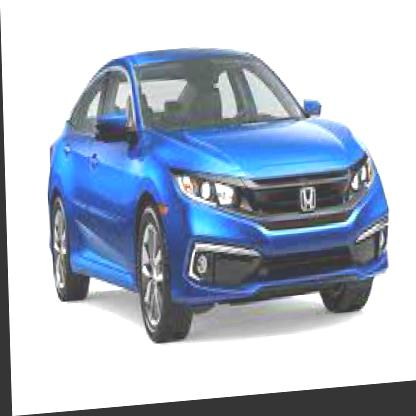Car: (43, 36, 389, 352)
